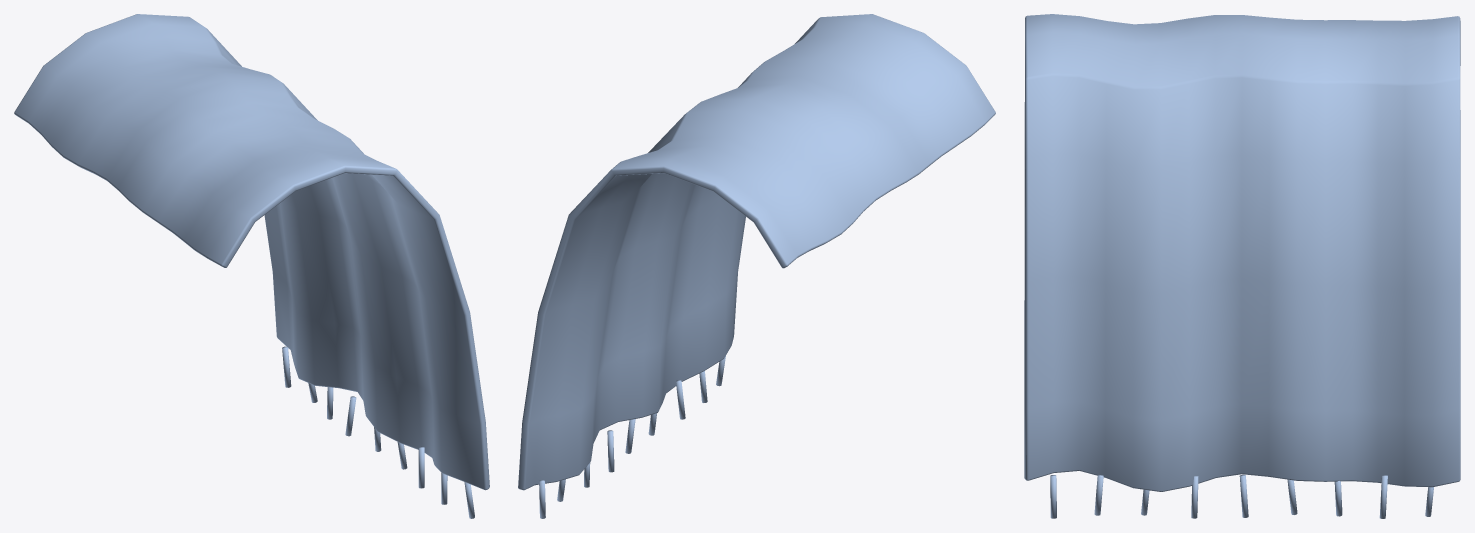
The model's file is living_sofa_throw.glb.
The picture shows the model from 3 angles, left to right: view 1: azimuth 30°, elevation 25°; view 2: azimuth 150°, elevation 25°; view 3: azimuth 270°, elevation 25°; orthographic projection. The views are drawn at different scales.
Parts seen in each view (by area): view 1: living_sofa_throw_body; view 2: living_sofa_throw_body; view 3: living_sofa_throw_body.
Boxes of the visible parts, x1,y1,x2,y2 form: living_sofa_throw_body: (14, 14, 489, 490); living_sofa_throw_body: (518, 14, 995, 490); living_sofa_throw_body: (1024, 14, 1460, 491).
Bounding box in the file's own units: 0.4703 × 0.6475 × 0.6216.
